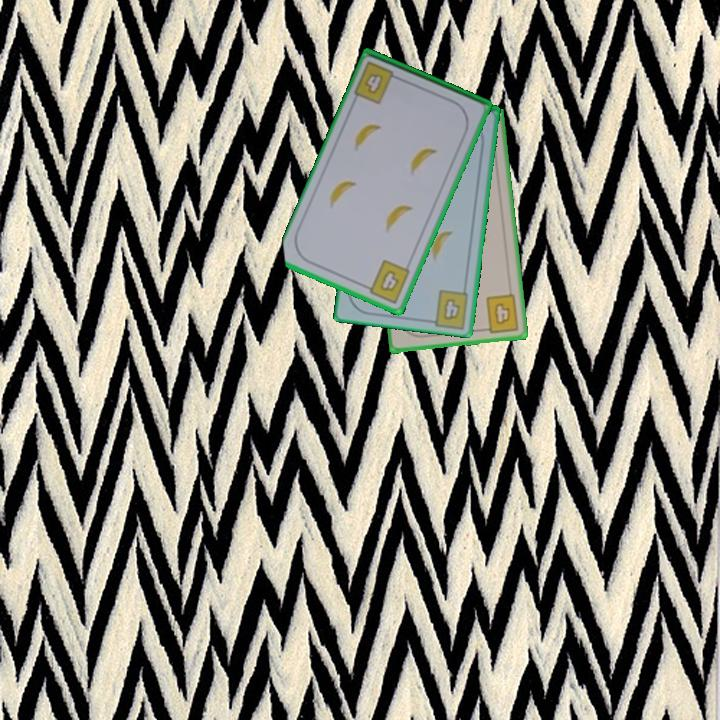4b: (360, 256, 413, 306), (351, 58, 405, 107), (478, 291, 522, 335), (440, 295, 463, 323)
